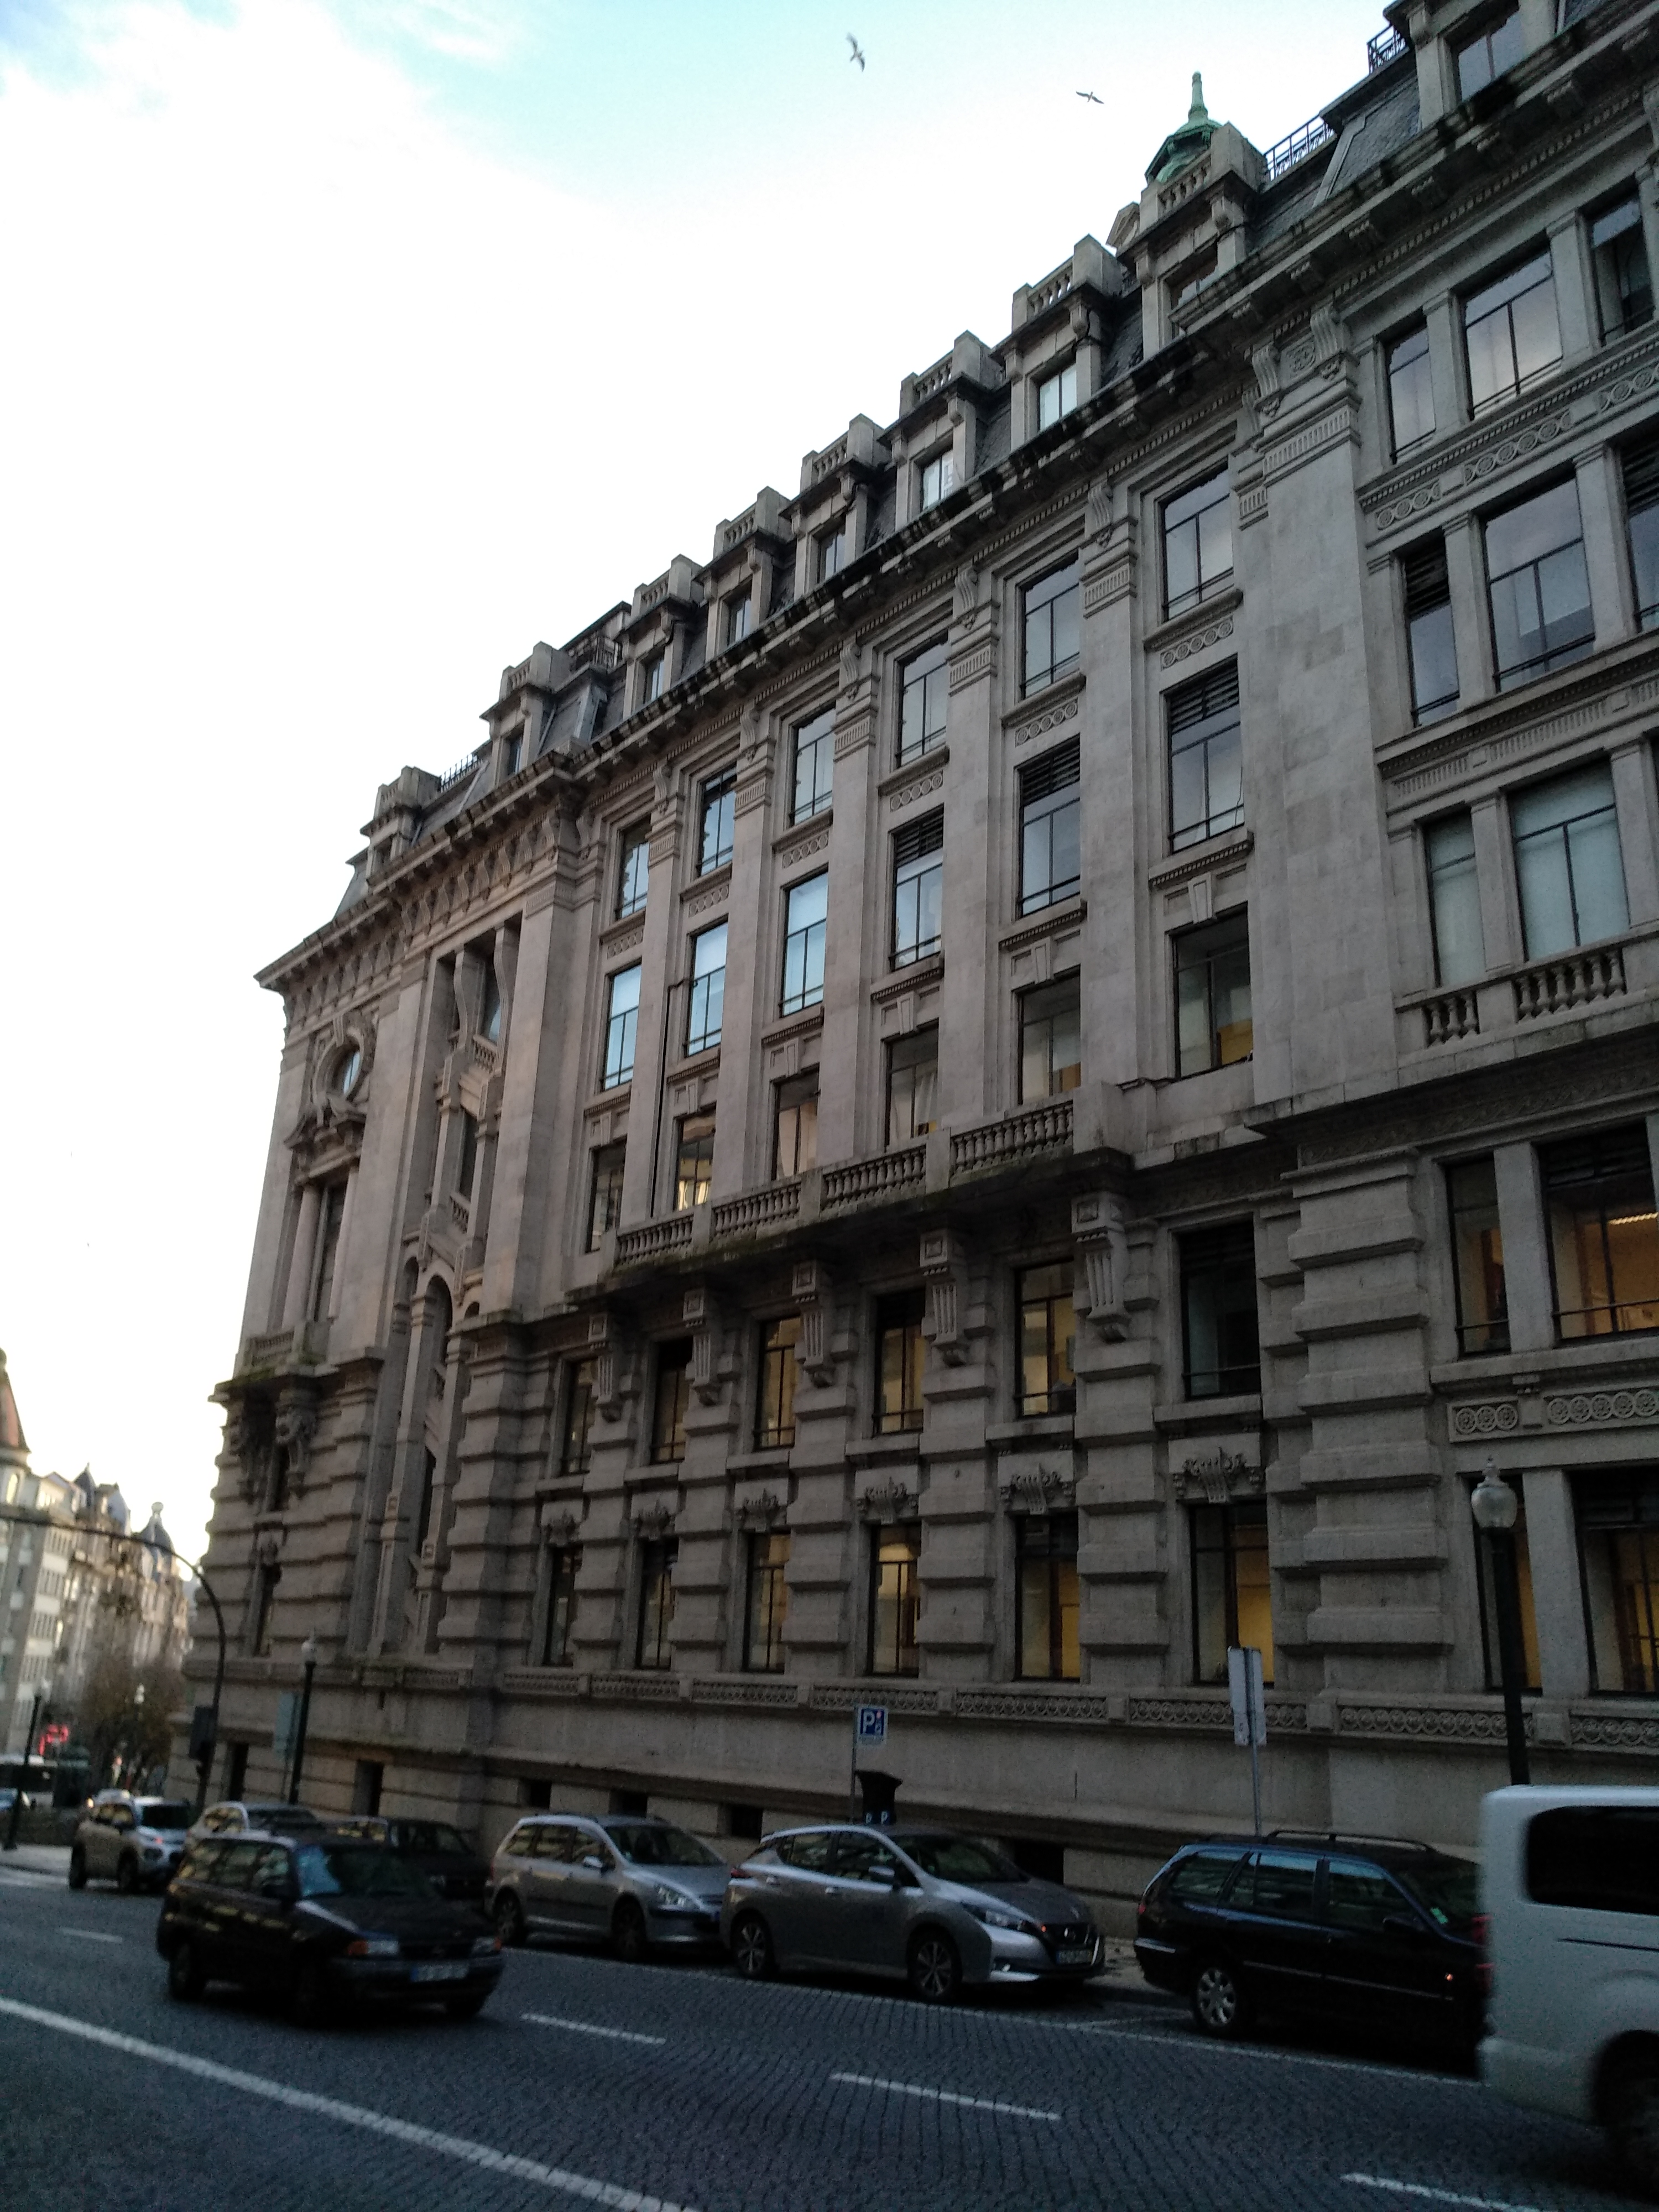camara: (164, 0, 1659, 1797)
